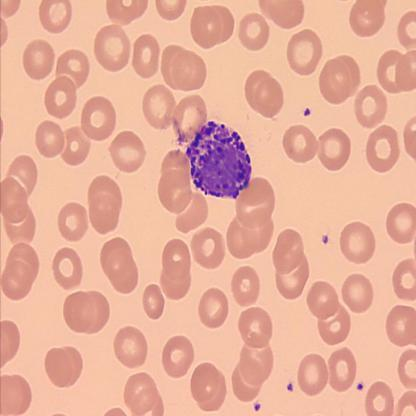Basophil: (184, 118, 254, 202)
